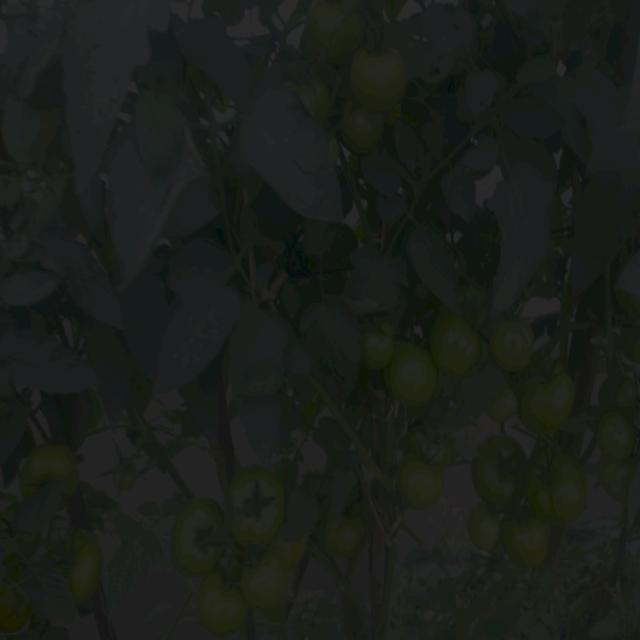tomato: (521, 442, 593, 514), (173, 499, 228, 574), (471, 432, 523, 511), (351, 46, 411, 114), (519, 363, 576, 434), (385, 340, 440, 408), (233, 466, 285, 537), (503, 508, 558, 572), (66, 525, 108, 607), (314, 1, 372, 60), (243, 548, 295, 613), (434, 313, 485, 379), (22, 445, 85, 490), (495, 311, 538, 373), (401, 455, 444, 515), (405, 418, 449, 472), (460, 505, 506, 555), (202, 576, 241, 633), (341, 105, 385, 155), (594, 408, 639, 453), (353, 323, 395, 369), (325, 512, 360, 562), (1, 569, 27, 628), (603, 452, 635, 493), (298, 74, 328, 108), (546, 252, 568, 297)
